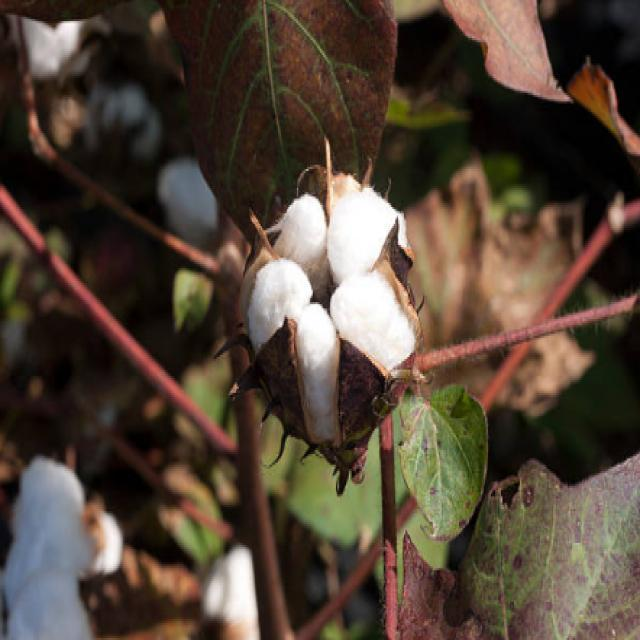Split Cotton Boll: (244, 171, 424, 459)
